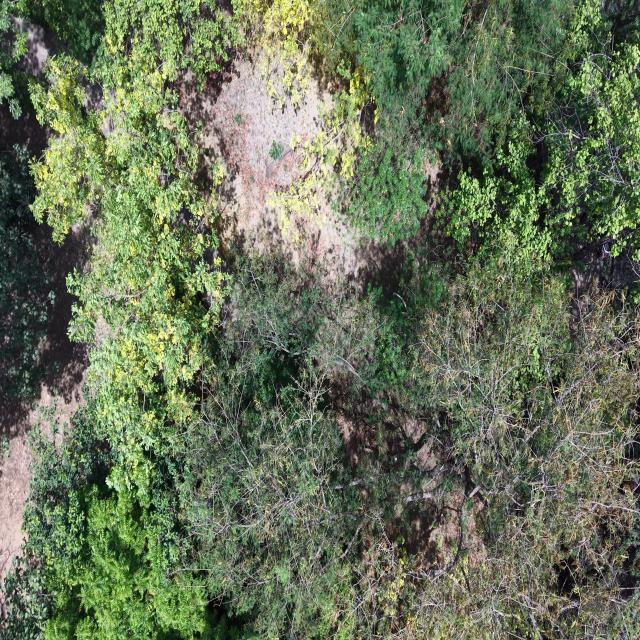DRY_AREA: (180, 56, 445, 295), (181, 62, 441, 295), (180, 61, 409, 295), (180, 60, 406, 294), (180, 61, 406, 294), (181, 63, 358, 275), (0, 225, 90, 581), (0, 227, 88, 579), (0, 226, 90, 569), (181, 62, 330, 263), (185, 62, 330, 263), (337, 403, 486, 576), (0, 372, 84, 579), (386, 489, 486, 575), (0, 400, 31, 581), (570, 244, 639, 319), (0, 430, 31, 580), (12, 18, 66, 79), (12, 18, 65, 78), (12, 18, 58, 77), (0, 104, 47, 155)
VEGETATION_TREE: (0, 0, 639, 639), (26, 259, 638, 637), (184, 259, 639, 637), (5, 5, 224, 637), (388, 258, 638, 637), (32, 50, 224, 495), (319, 2, 639, 260), (181, 258, 361, 638), (3, 402, 216, 638), (444, 35, 639, 259), (0, 145, 53, 402), (349, 147, 427, 245), (21, 0, 104, 63), (0, 0, 26, 118)
